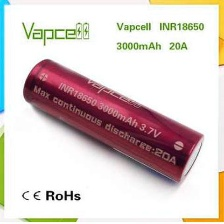battery: (18, 54, 207, 191)
